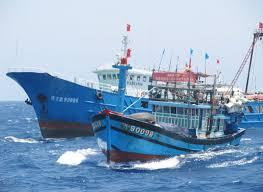Ship: (8, 66, 152, 138), (93, 102, 246, 162)
